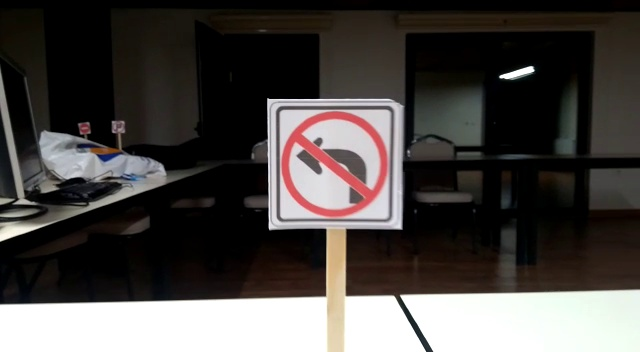sola_donulmez: (272, 106, 401, 222)
